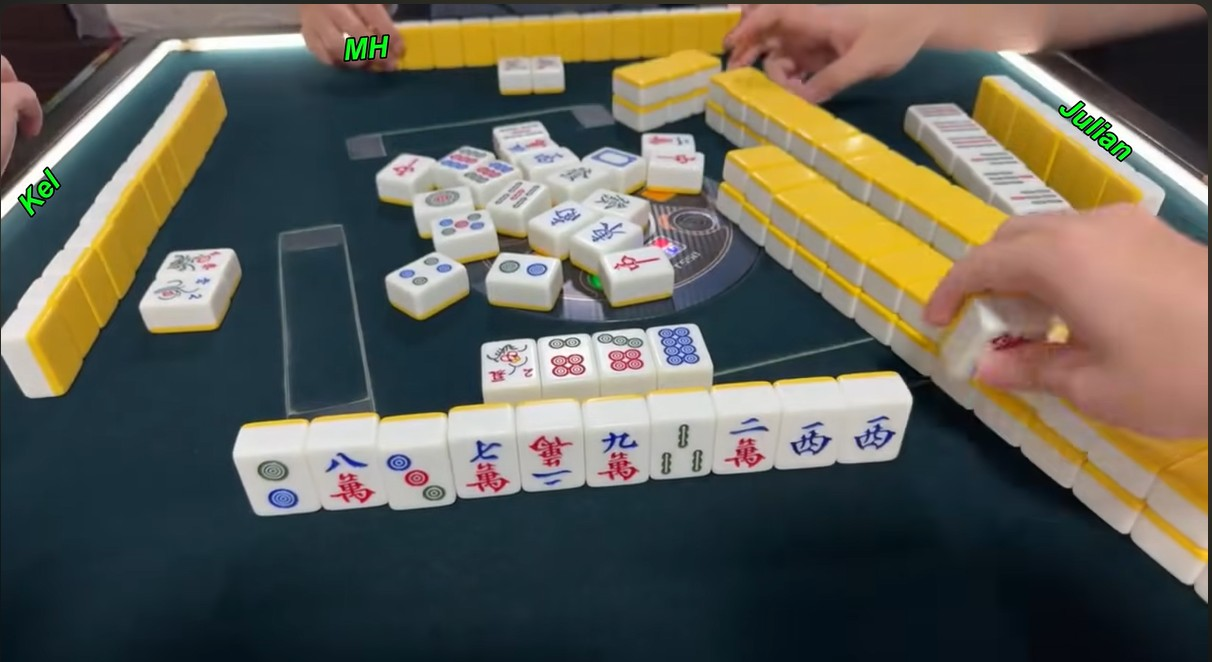TILE: (240, 448, 315, 513), (313, 442, 382, 509), (384, 438, 452, 505), (518, 425, 584, 491), (452, 430, 517, 497), (586, 421, 650, 486), (844, 400, 910, 461), (778, 408, 846, 467), (714, 411, 778, 472), (651, 418, 714, 476), (649, 324, 716, 370), (592, 328, 657, 375), (481, 337, 539, 387), (538, 333, 594, 383)
